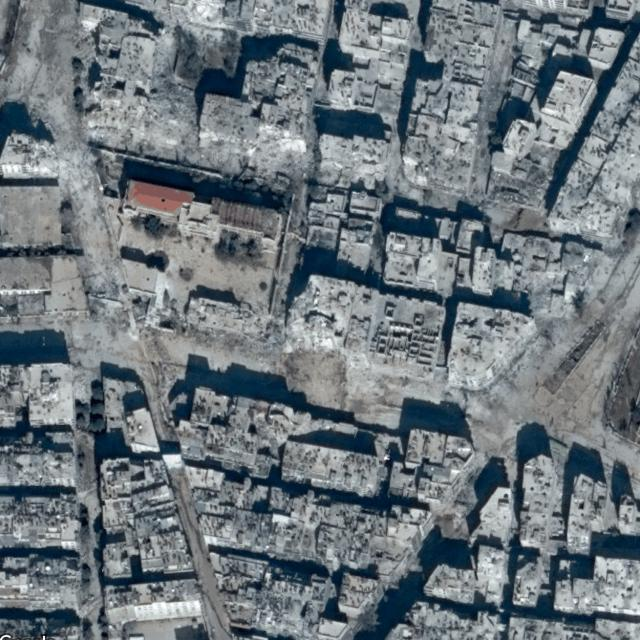damaged_building: (66, 0, 386, 195), (140, 272, 444, 383), (401, 0, 502, 195), (547, 98, 640, 244), (501, 226, 619, 320), (484, 139, 562, 210), (0, 126, 61, 179)
